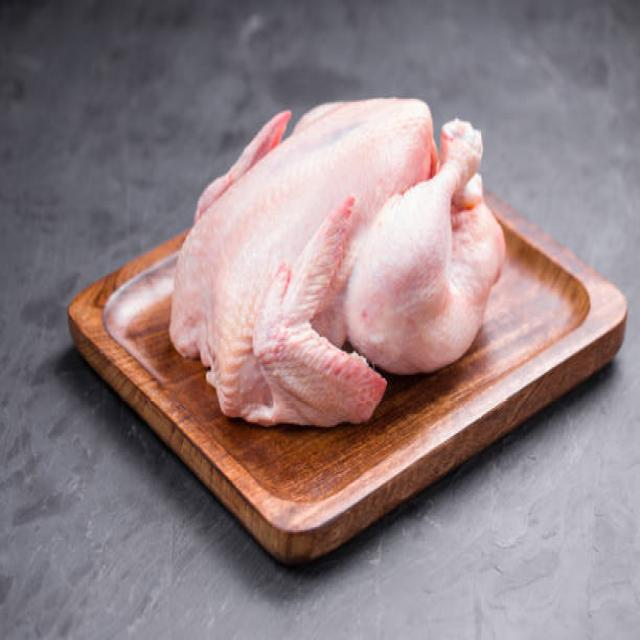Chicken: (159, 90, 514, 430)
